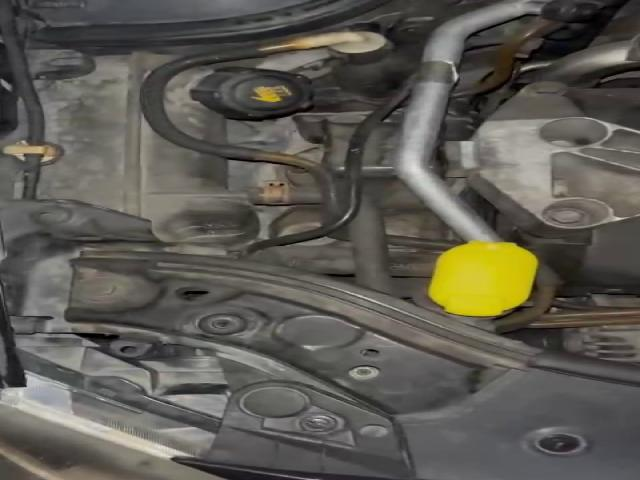antifreeze_tank: (35, 52, 261, 245), (163, 67, 311, 143)
